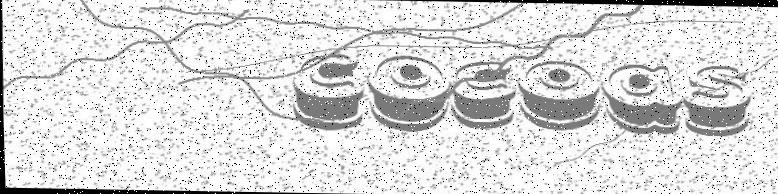a: (599, 62, 683, 135)
c: (290, 52, 365, 132), (449, 59, 517, 130)
o: (364, 53, 451, 133), (515, 59, 603, 132)
s: (681, 62, 753, 138)
